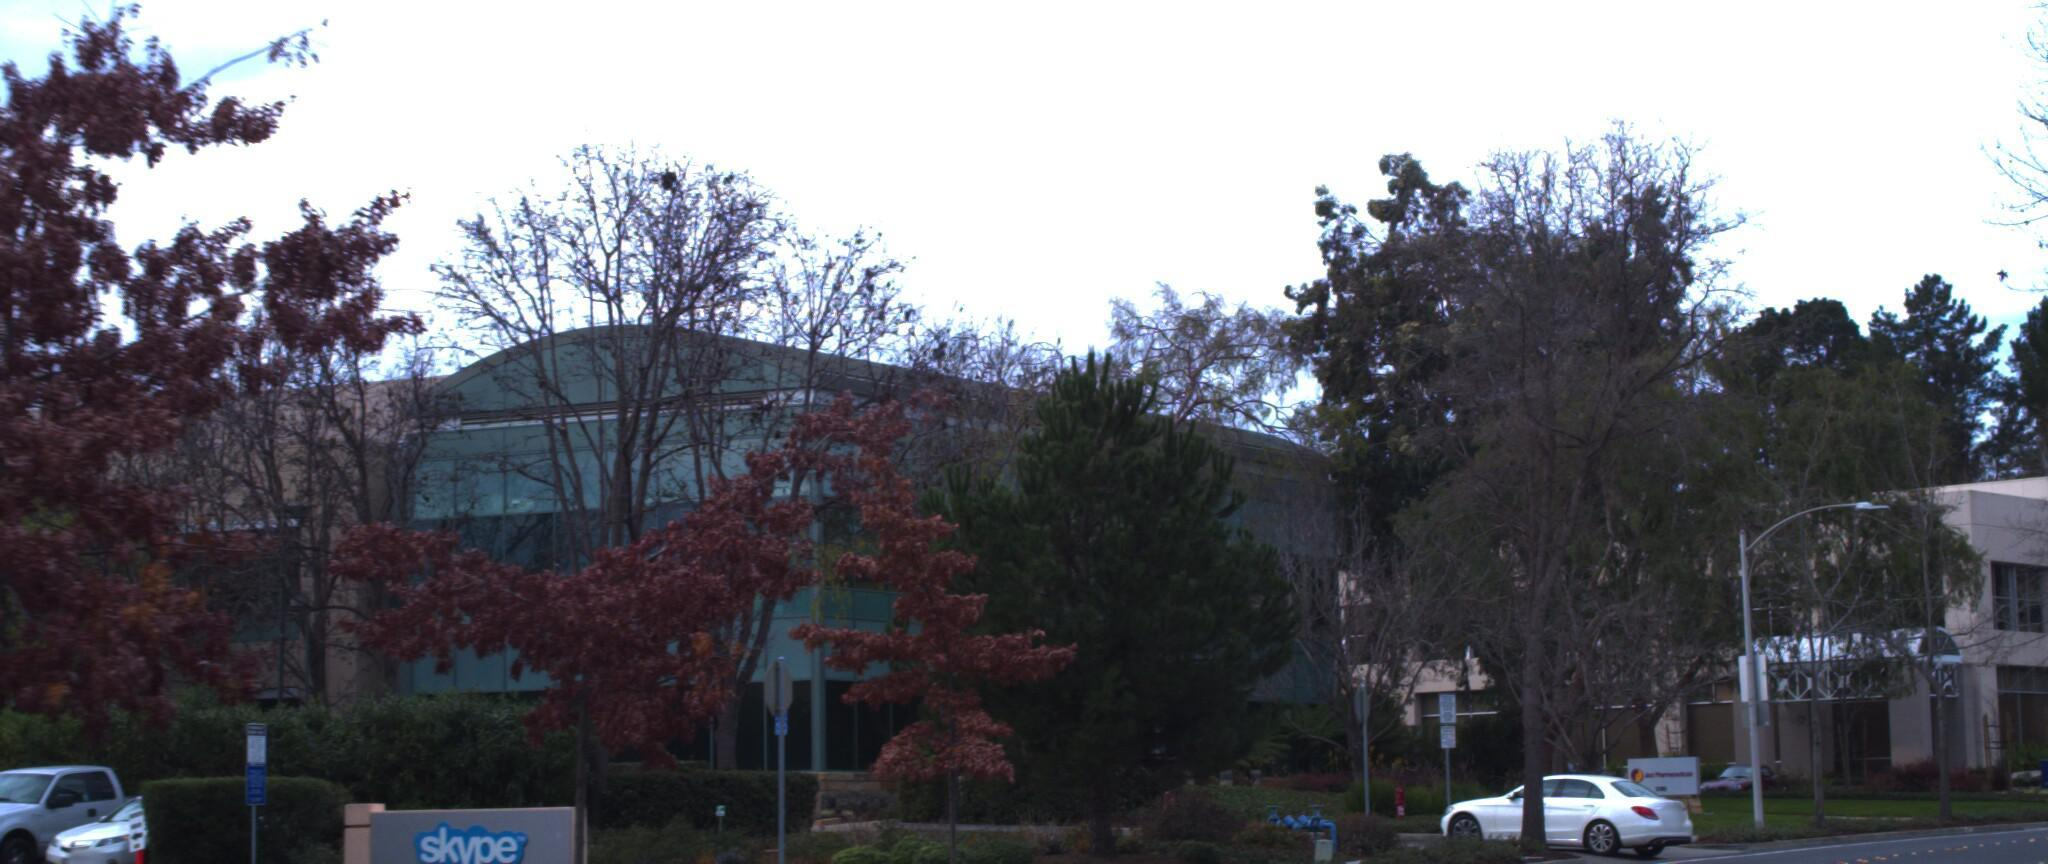car: (1428, 761, 1699, 860)
